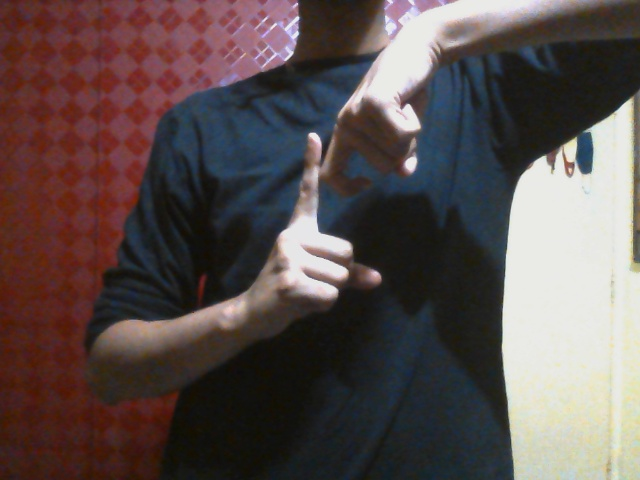K: (247, 100, 422, 334)
